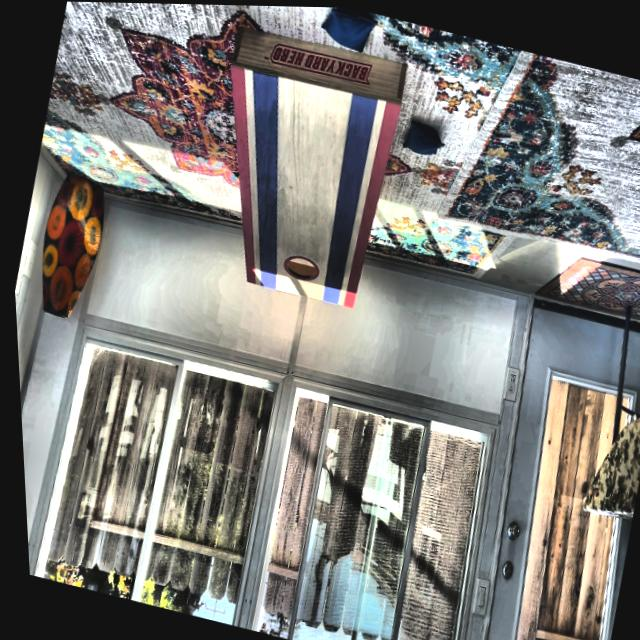blue-bean-bag: (315, 5, 379, 55), (398, 114, 446, 155)
board: (218, 68, 399, 310)
hole: (276, 250, 318, 283)
